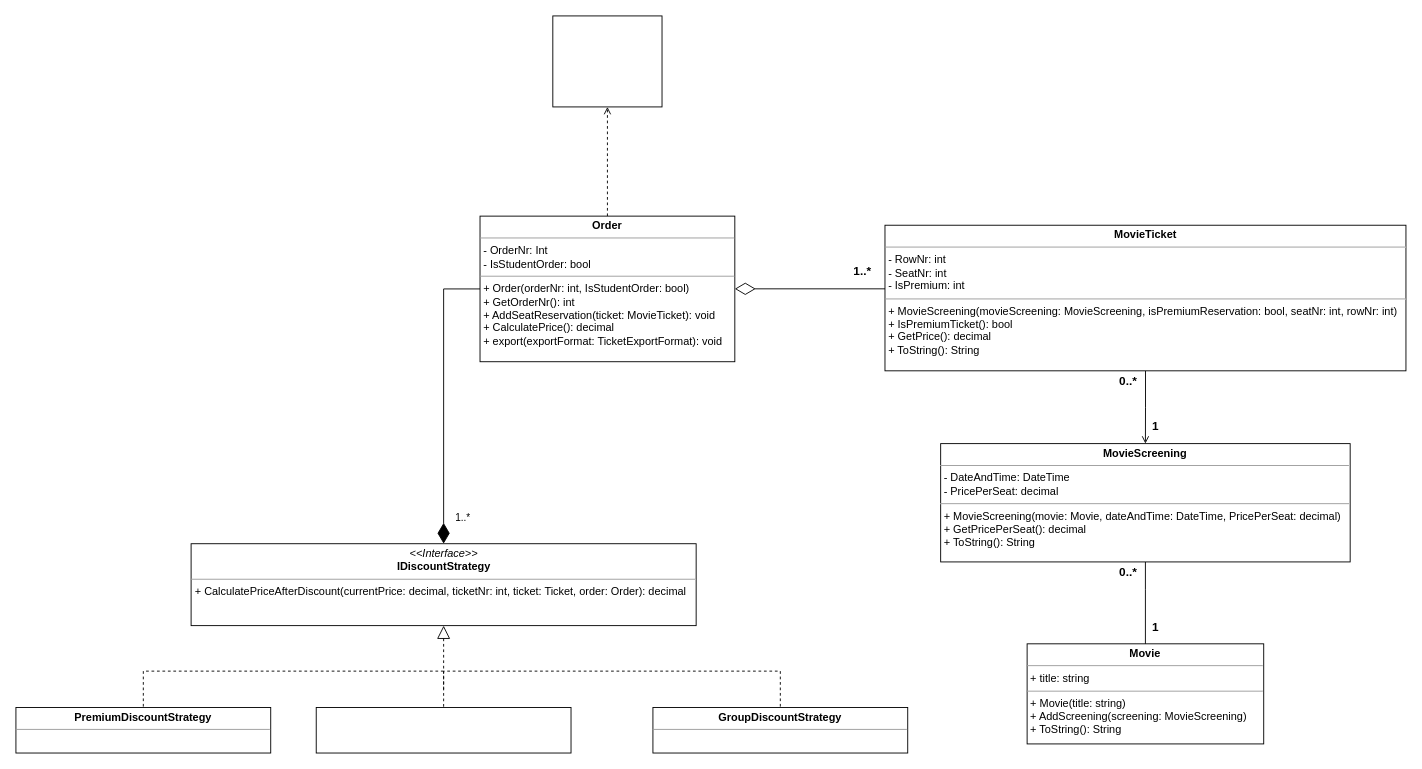
This 1422x769 diagram has some shape labels left out. The centre of each missing label's shape, as x and y in pixels:
<<enumeration>> TicketExportFormat PLAINTEXT JSON: point 607,61
FreeTicketStrategy: point 443,730
